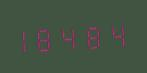eight: (40, 21, 61, 53), (84, 19, 105, 51)
four: (62, 20, 83, 52), (106, 18, 127, 50)
one: (18, 22, 39, 54)
